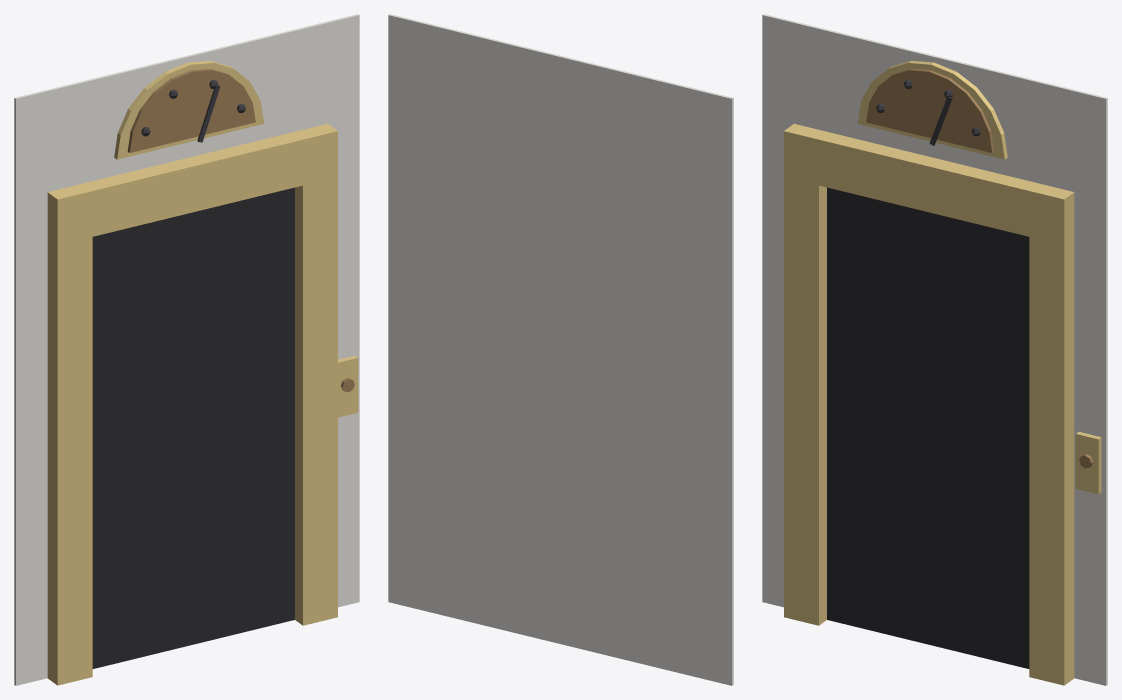
Rendered from HJ_PuertaAscensor.fbx.
3 views of the same model, side by side, from view 1: azimuth 30°, elevation 25°; view 2: azimuth 150°, elevation 25°; view 3: azimuth 330°, elevation 25° (orthographic).
Visible parts, largest first — view 1: HJ_PuertaAscensor; view 2: HJ_PuertaAscensor; view 3: HJ_PuertaAscensor.
Boxes of the visible parts, box(x1,y1,x2,y2) form: HJ_PuertaAscensor: box(14, 14, 359, 685); HJ_PuertaAscensor: box(388, 14, 733, 685); HJ_PuertaAscensor: box(762, 14, 1107, 685).
Size of the model in its own units: 1.96 by 3.2 by 0.115.
